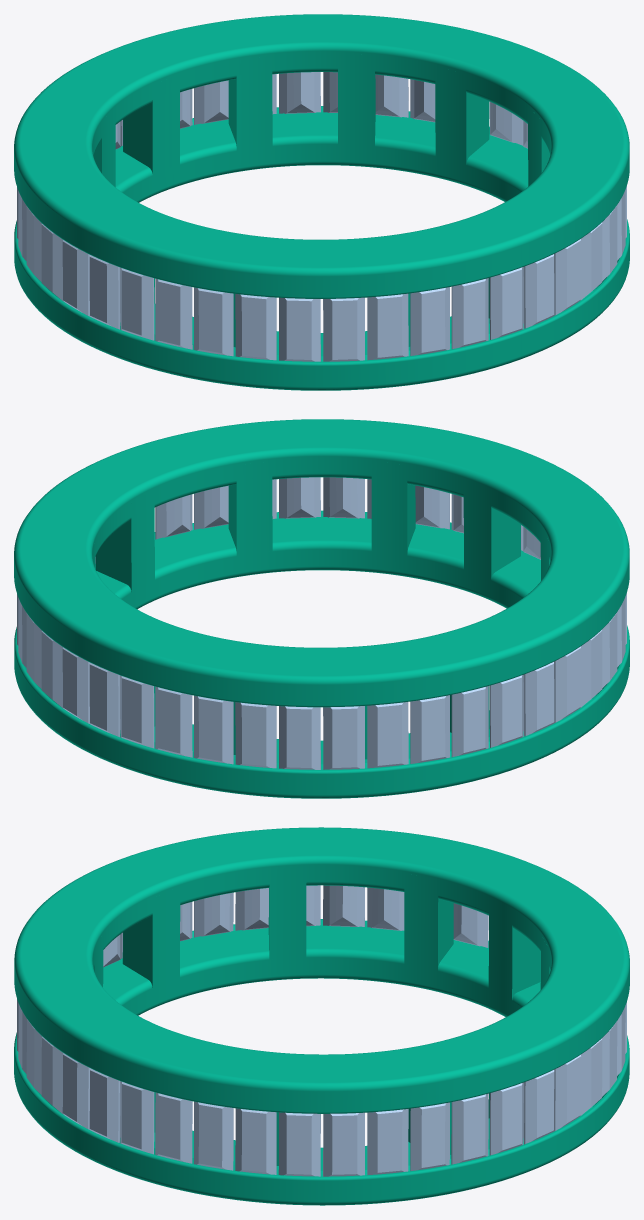
The picture shows the model from 3 angles, top to bottom: view 1: azimuth 30°, elevation 25°; view 2: azimuth 150°, elevation 25°; view 3: azimuth 270°, elevation 25°; orthographic projection.
Visible parts, largest first — view 1: VR-59 (2)(base).3dm, Diamond_Baguette Straight (×25); view 2: VR-59 (2)(base).3dm, Diamond_Baguette Straight (×23); view 3: VR-59 (2)(base).3dm, Diamond_Baguette Straight (×24).
Boxes of the visible parts, x1,y1,x2,y2 form: VR-59 (2)(base).3dm: [14, 14, 629, 390]; Diamond_Baguette Straight (×25): [26, 72, 625, 361]; VR-59 (2)(base).3dm: [14, 419, 629, 798]; Diamond_Baguette Straight (×23): [26, 477, 617, 769]; VR-59 (2)(base).3dm: [14, 827, 629, 1205]; Diamond_Baguette Straight (×24): [26, 885, 617, 1176].
Size of the model in its own units: 2.79 by 0.6223 by 2.79.
